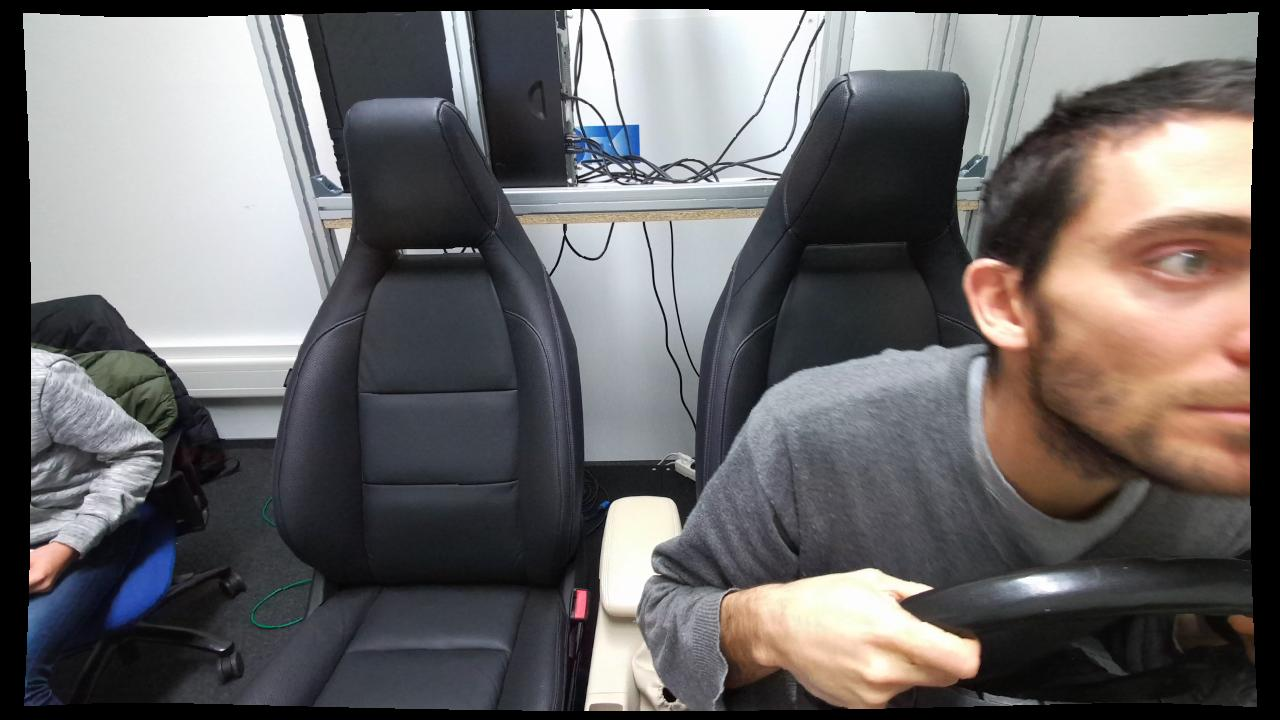Distracted: (637, 59, 1256, 712)
